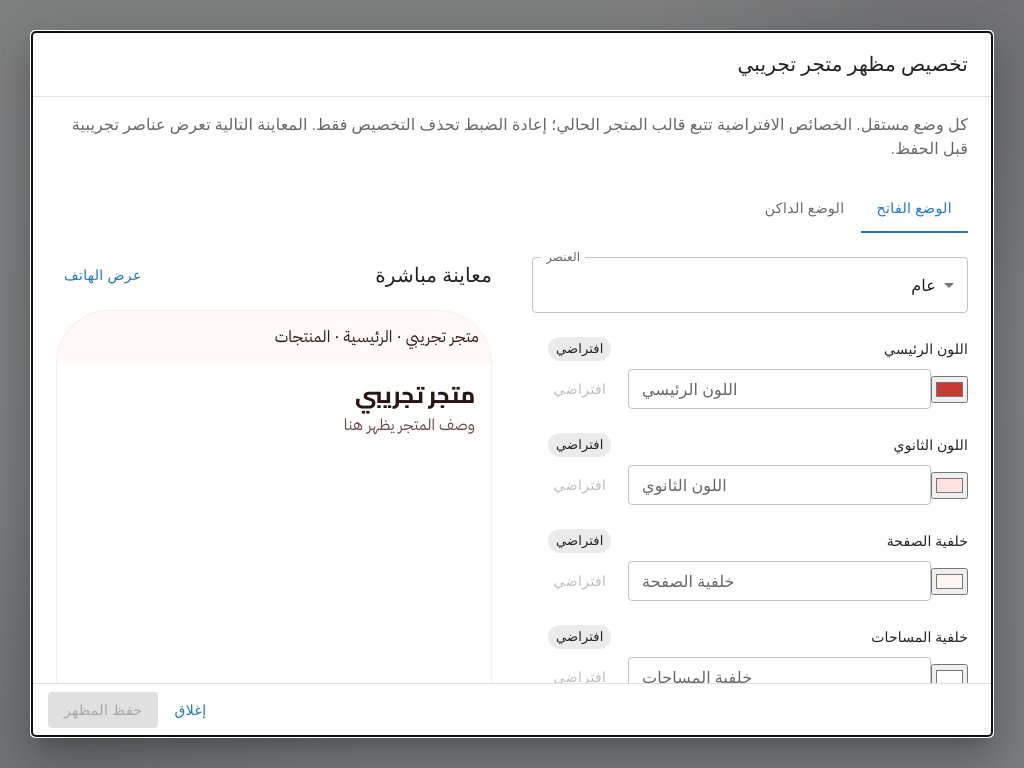
Test case: store appearance editor › previews changes without saving and saves both sparse modes independently
The image size is (1024, 768).
Type "#ff0000" into the field labelled "اللون الرئيسي".
click(780, 389); type("#ff0000")  # box [628,369,931,409]
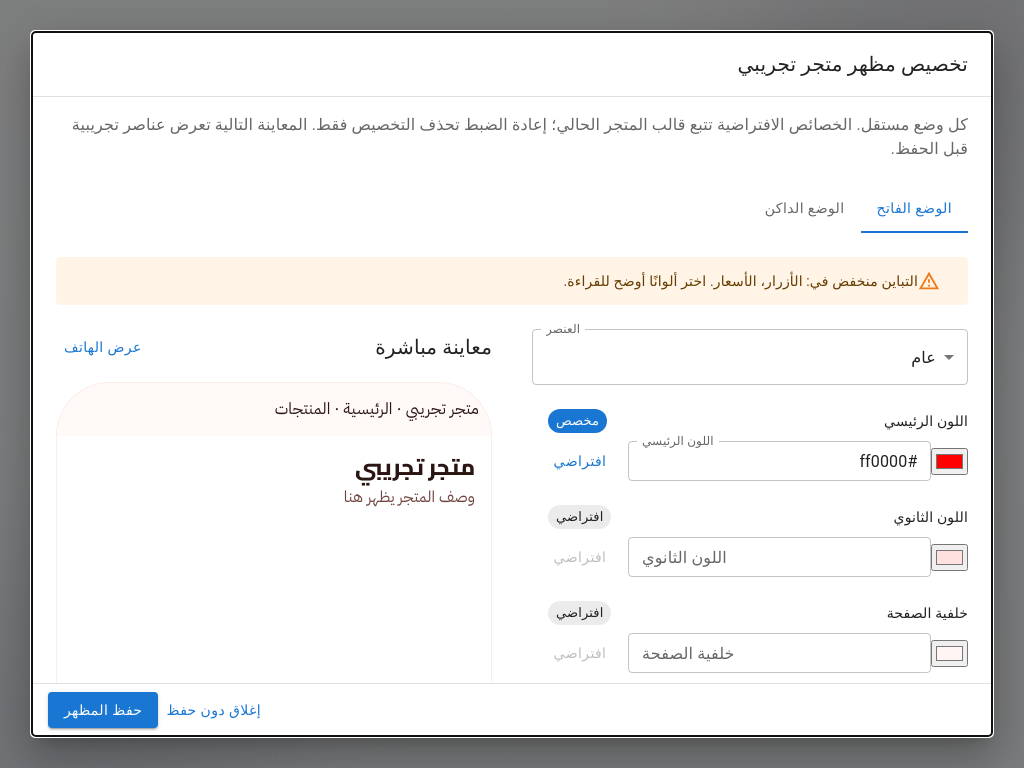
Click the tab "الوضع الداكن".
click(805, 209)  # box [749,185,860,233]
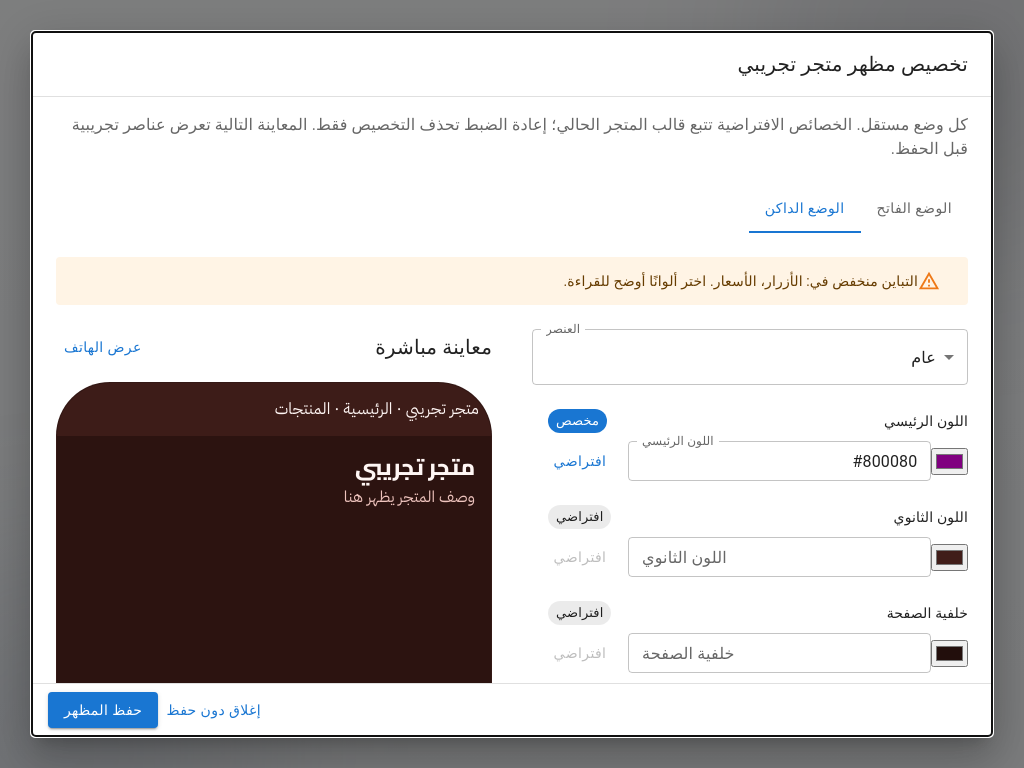
Expected: the field labelled "اللون الرئيسي" holds "#800080", [628,441,931,481]
Click the tab "الوضع الفاتح".
click(914, 209)  # box [860,185,968,233]
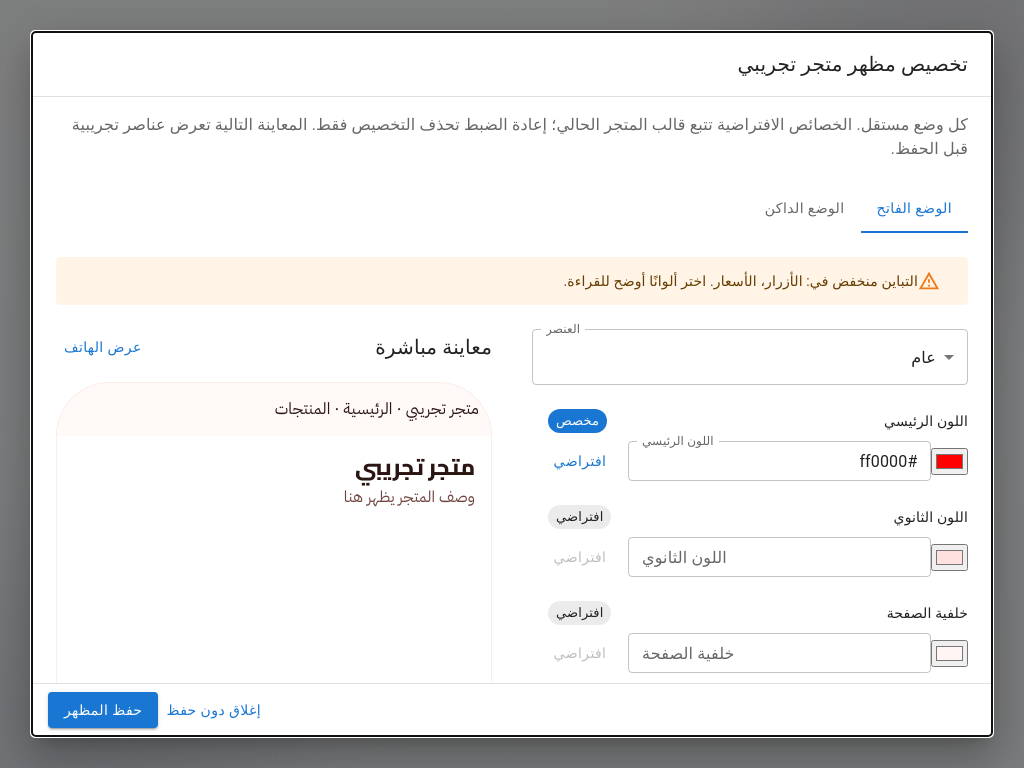
Click the button "حفظ المظهر".
click(103, 710)  # box [48,692,158,728]
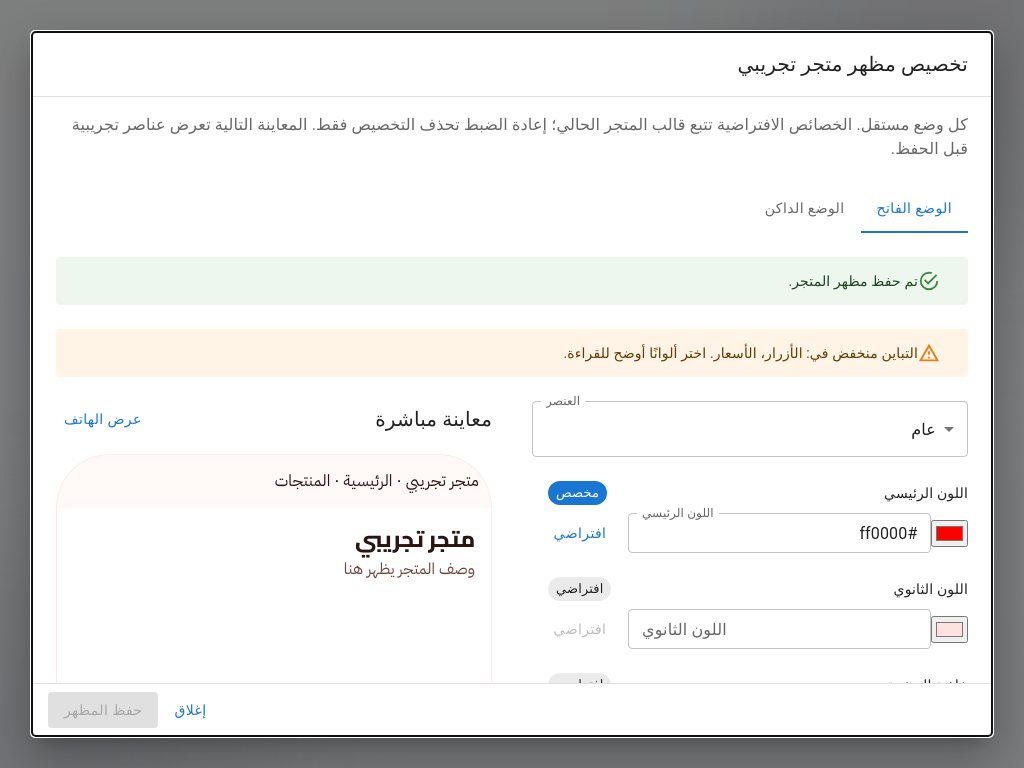
Expected: the text "تم حفظ مظهر المتجر." is shown, [788,273,918,289]
